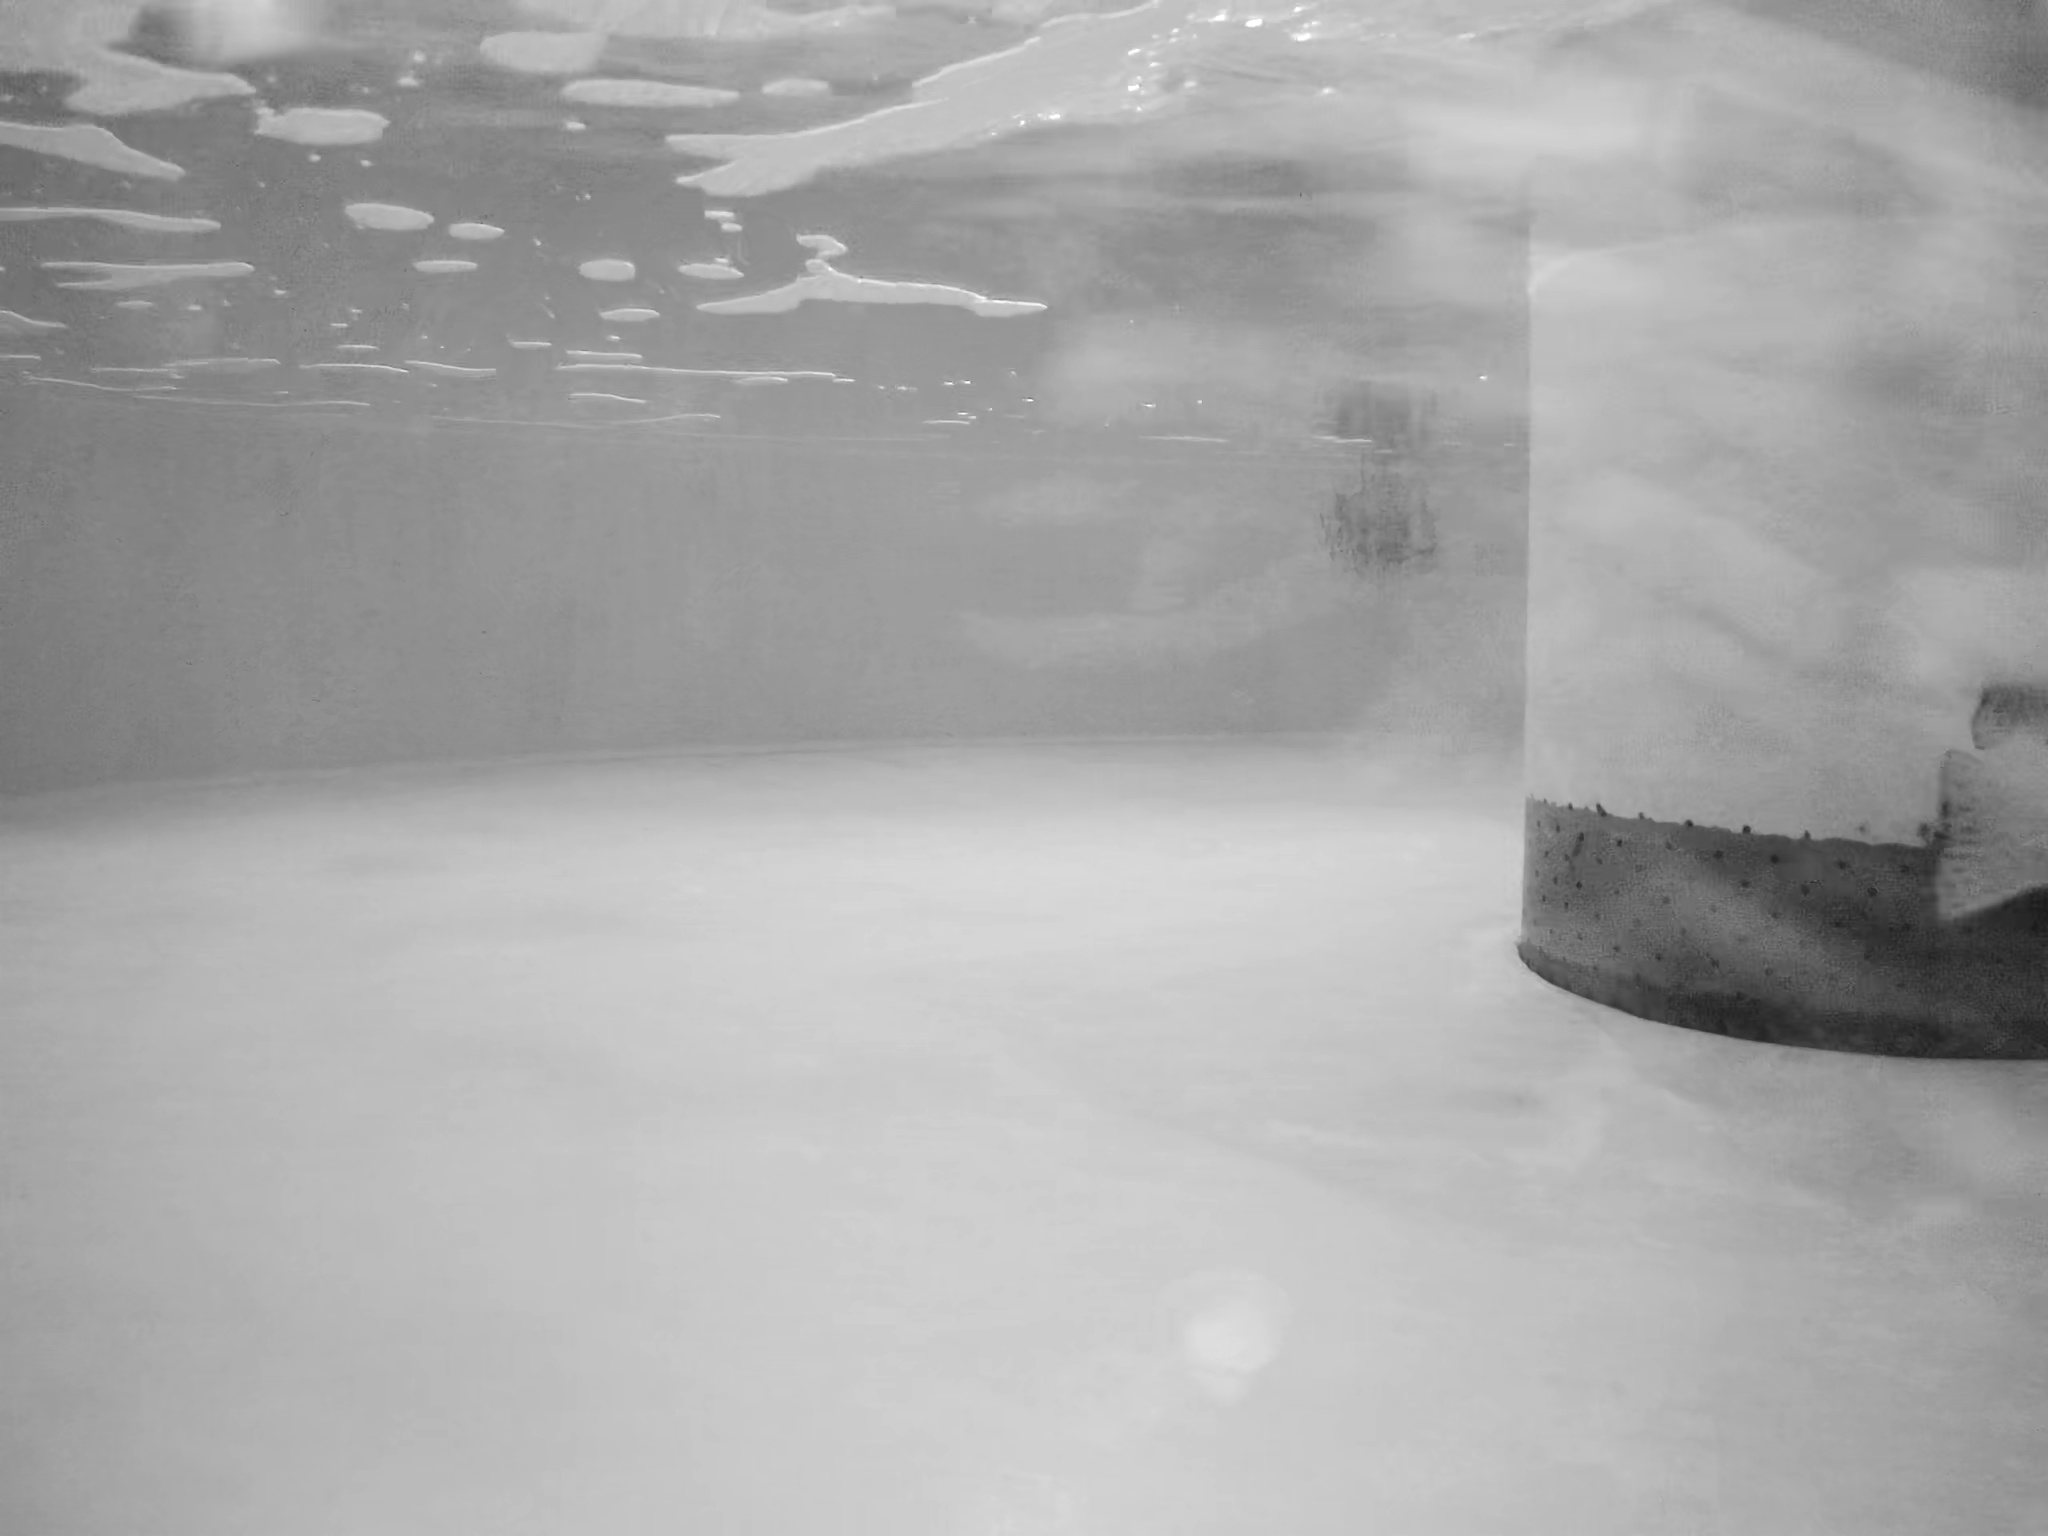fish: (1934, 691, 2048, 931)
